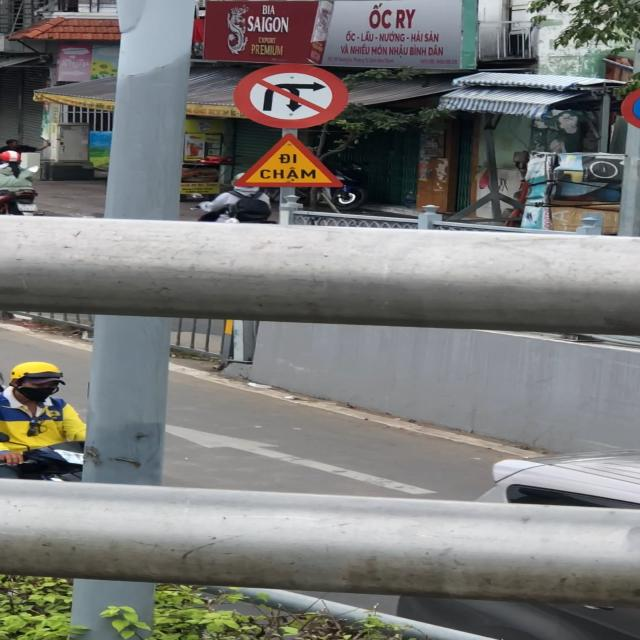Bien bao cam re phai va quay dau: (227, 60, 350, 132)
Bien bao di cham: (232, 128, 351, 192)
